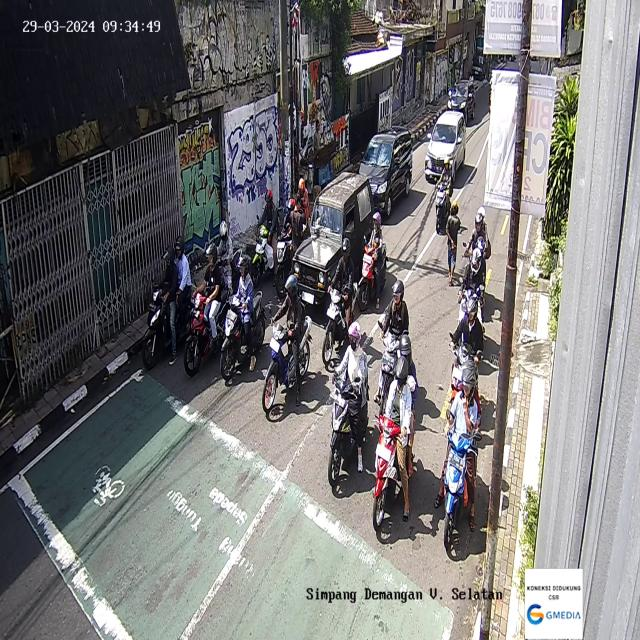car: (292, 172, 374, 314), (359, 126, 413, 217), (424, 108, 467, 184), (447, 78, 476, 122)
motorcycle: (372, 334, 418, 531), (435, 361, 480, 554), (141, 235, 194, 370), (262, 276, 312, 414), (327, 324, 369, 486), (183, 244, 233, 377), (220, 256, 266, 382), (447, 296, 484, 438), (322, 238, 356, 372), (377, 277, 408, 414), (357, 212, 388, 311), (458, 236, 486, 342), (250, 190, 280, 284), (274, 199, 298, 298), (213, 219, 243, 297), (461, 204, 491, 280), (433, 156, 452, 235), (292, 177, 310, 238)
